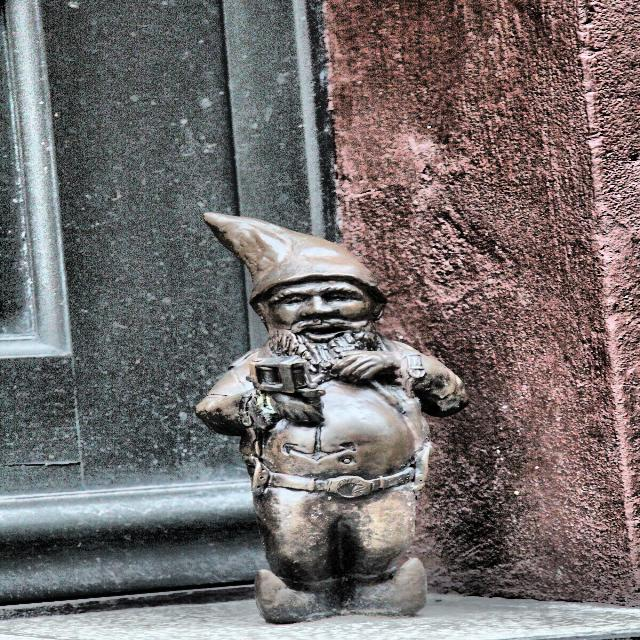TatuazystaKonstanty: (197, 214, 467, 623)
